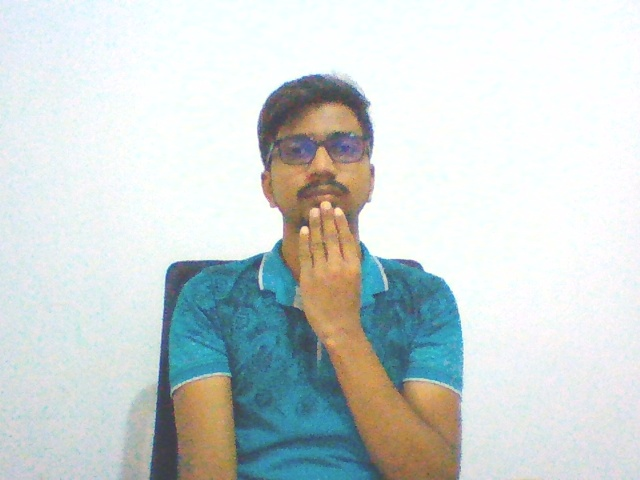mango: (292, 199, 380, 343)
